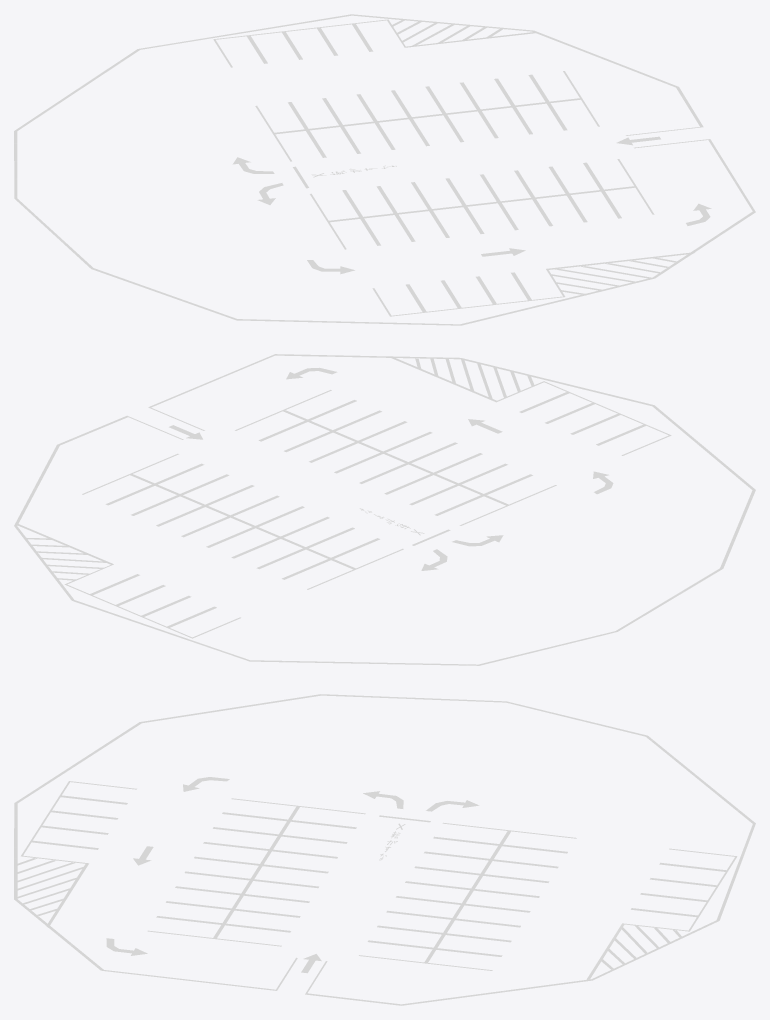
File: kd_stage_1364a3_6_0_bounded.glb
3 renders of one model, top to bottom at view 1: azimuth 30°, elevation 25°; view 2: azimuth 150°, elevation 25°; view 3: azimuth 270°, elevation 25°, orthographic.
Visible parts, largest first — view 1: kd_stage_1364a3_6_0_bounded; view 2: kd_stage_1364a3_6_0_bounded; view 3: kd_stage_1364a3_6_0_bounded.
Part boxes in pixels (x1,y1,x2,y2): kd_stage_1364a3_6_0_bounded: (14,14,755,325); kd_stage_1364a3_6_0_bounded: (14,354,755,665); kd_stage_1364a3_6_0_bounded: (14,694,755,1005).
Bounding box in the file's own units: 45.99 × 0.0166 × 46.27.
Materials: 1 (1 with a texture image).
